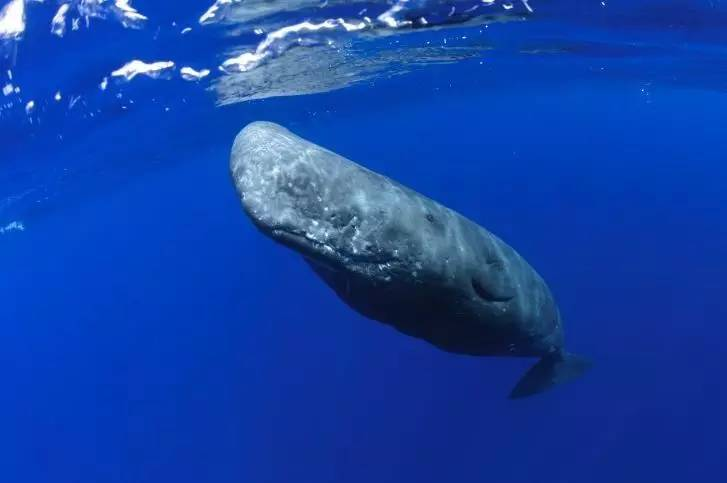fish: (228, 122, 592, 397)
